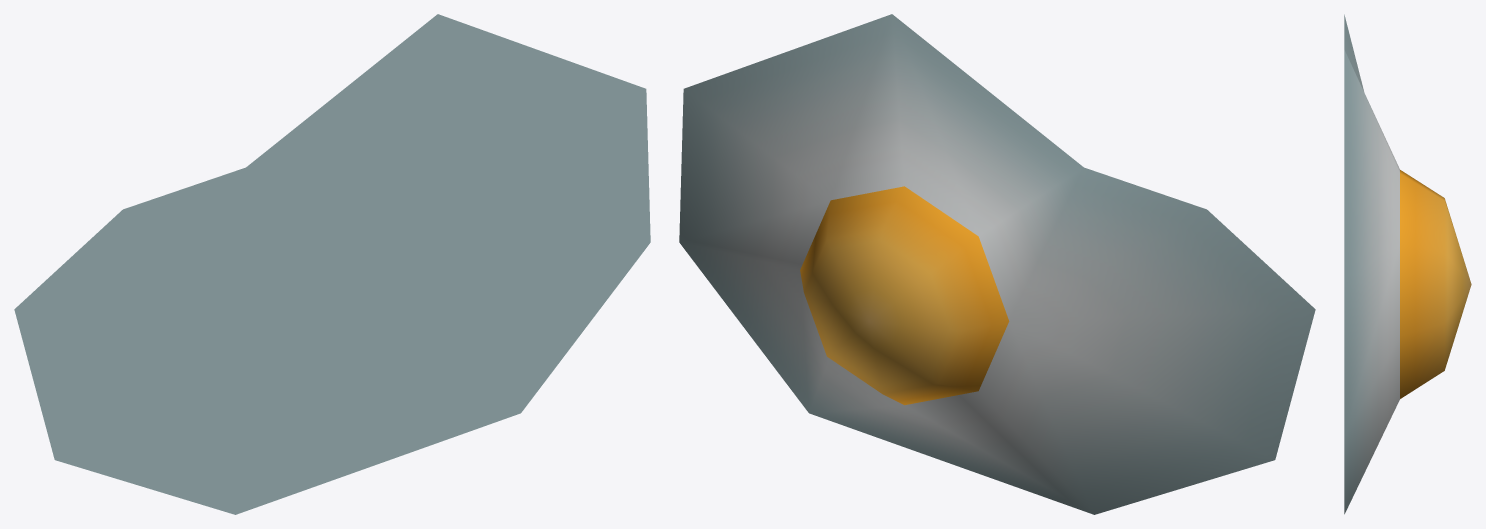
File: Egg.fbx
3 renders of one model, left to right at view 1: azimuth 30°, elevation 25°; view 2: azimuth 150°, elevation 25°; view 3: azimuth 270°, elevation 25°, orthographic.
Parts seen in each view (by area): view 1: Egg; view 2: Egg; view 3: Egg.
Boxes of the visible parts, <box> form: Egg: <box>14,14,650,514</box>; Egg: <box>679,14,1315,514</box>; Egg: <box>1344,14,1471,514</box>.
Size of the model in its own units: 15.27 by 2.61 by 10.36.
